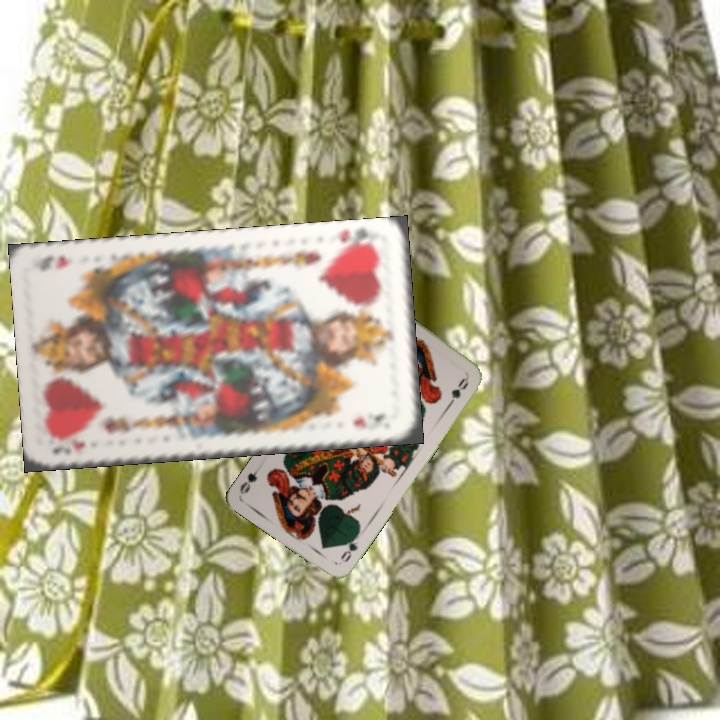GO: (337, 529, 362, 565)
HK: (332, 225, 379, 254), (48, 434, 87, 457)
